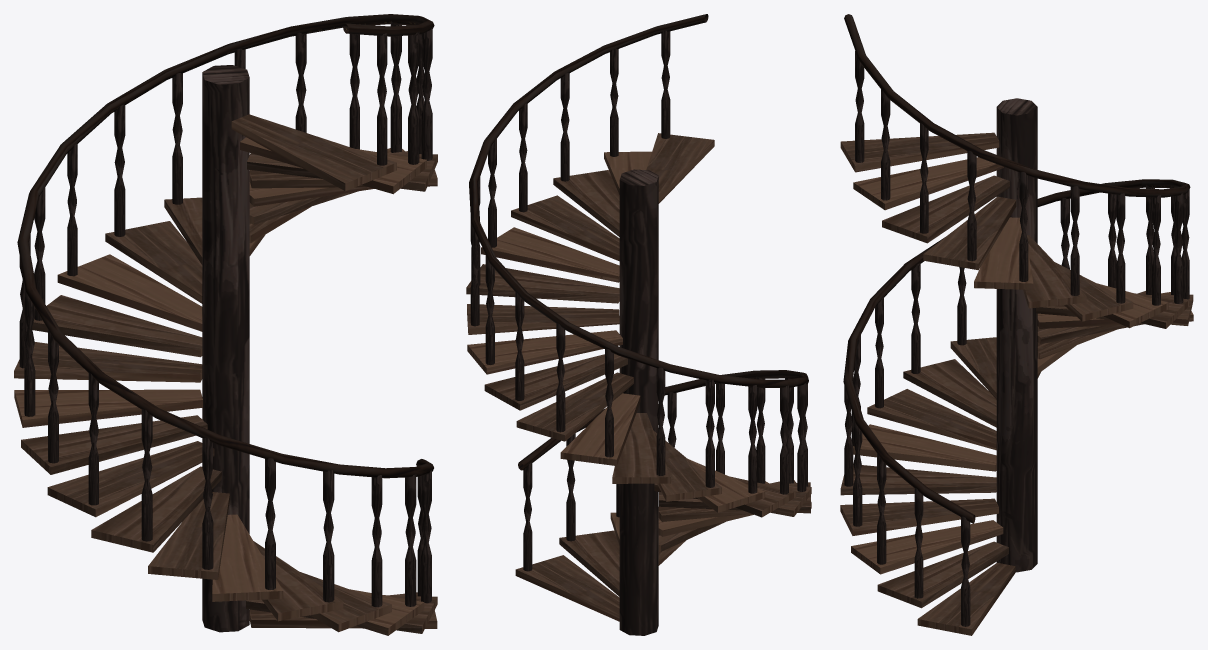
File: Biblioteca_EscalerasCaracol.fbx
3 renders of one model, left to right at view 1: azimuth 30°, elevation 25°; view 2: azimuth 150°, elevation 25°; view 3: azimuth 270°, elevation 25°, orthographic. The views are drawn at different scales.
Parts seen in each view (by area): view 1: Biblioteca_EscalerasCaracol; view 2: Biblioteca_EscalerasCaracol; view 3: Biblioteca_EscalerasCaracol.
Boxes of the visible parts, box(x1,y1,x2,y2) form: Biblioteca_EscalerasCaracol: box(14, 14, 437, 635); Biblioteca_EscalerasCaracol: box(466, 14, 811, 635); Biblioteca_EscalerasCaracol: box(840, 14, 1193, 635).
Size of the model in its own units: 304 by 529 by 304.
